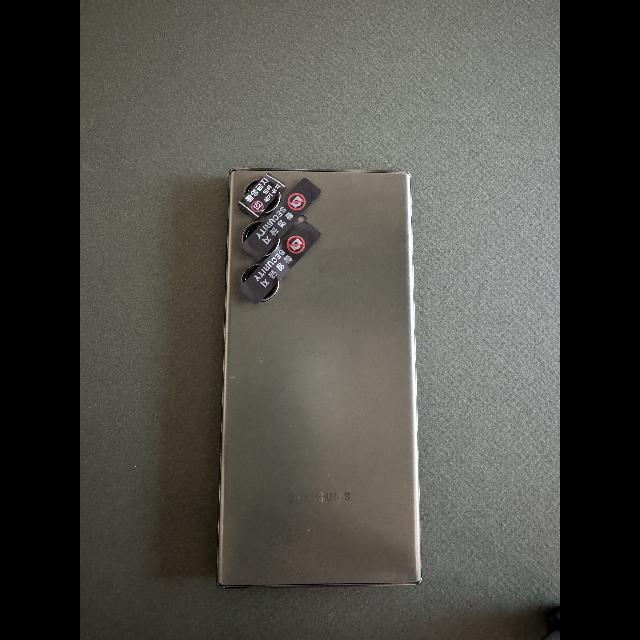lens: (261, 193, 280, 214), (243, 266, 260, 283), (244, 223, 261, 239)
phone: (215, 167, 422, 590)
sticker: (237, 221, 320, 304), (241, 178, 320, 260), (238, 174, 285, 220)
